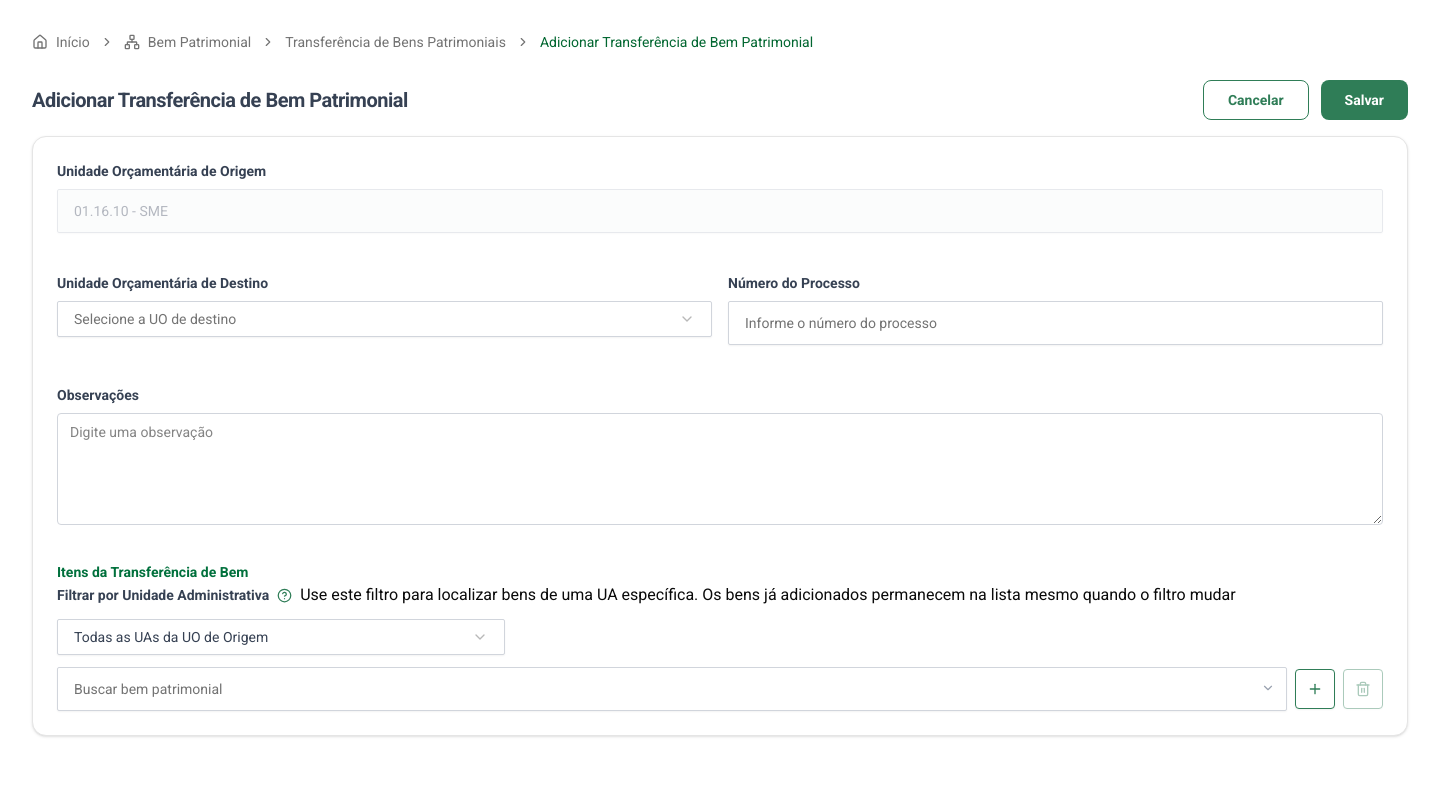
Test case: AdicionarTransferenciaPage › exibe todos os campos pendentes numa unica submissao
Click the button "Salvar" at (1364, 100), box x1=1321 y1=80 x2=1408 y2=120
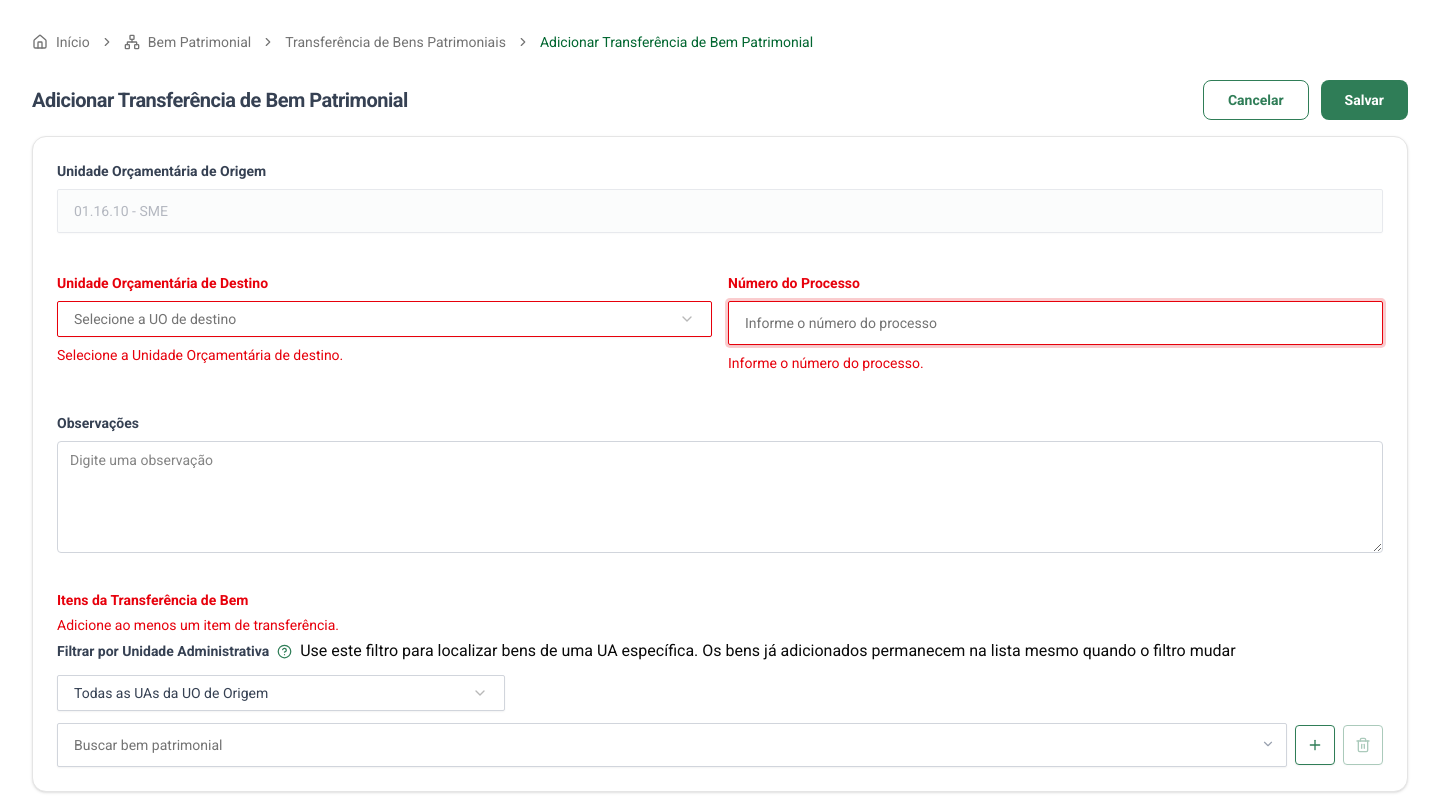
Result: the text "Selecione a Unidade Orçamentária de destino." is shown at x1=57 y1=347 x2=343 y2=363
Result: the text "Informe o número do processo." is shown at x1=728 y1=355 x2=924 y2=371
Result: the text "Adicione ao menos um item de transferência." is shown at x1=57 y1=617 x2=339 y2=633
